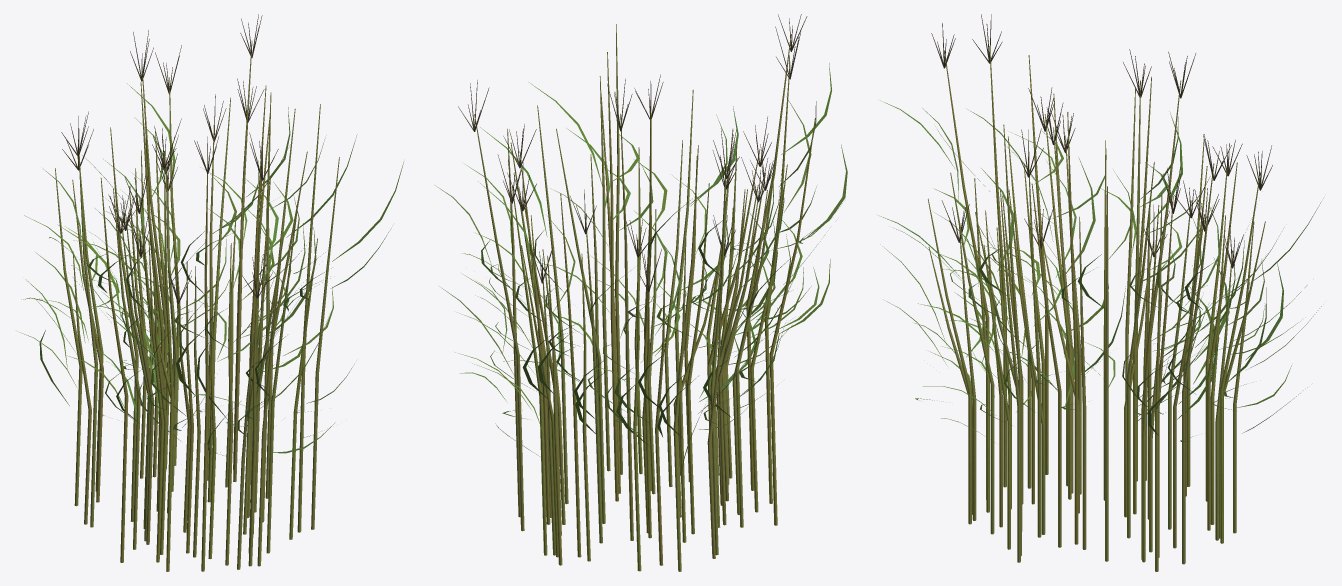
The model's file is PZ_Reeds_Thicket_A.glb.
3 renders of one model, left to right at view 1: azimuth 30°, elevation 25°; view 2: azimuth 150°, elevation 25°; view 3: azimuth 270°, elevation 25°, orthographic. The views are drawn at different scales.
Visible parts, largest first — view 1: Reed_Stems_ClosedTapered, Reed_NarrowLeaves_LowOverdraw, Reed_Plumed_SeedTufts; view 2: Reed_Stems_ClosedTapered, Reed_NarrowLeaves_LowOverdraw, Reed_Plumed_SeedTufts; view 3: Reed_Stems_ClosedTapered, Reed_NarrowLeaves_LowOverdraw, Reed_Plumed_SeedTufts.
Part boxes in pixels (x1=…): Reed_Stems_ClosedTapered: x1=55, y1=41, x2=339, y2=571; Reed_NarrowLeaves_LowOverdraw: x1=19, y1=83, x2=403, y2=456; Reed_Plumed_SeedTufts: x1=61, y1=14, x2=278, y2=303; Reed_Stems_ClosedTapered: x1=474, y1=24, x2=815, y2=571; Reed_NarrowLeaves_LowOverdraw: x1=435, y1=63, x2=847, y2=471; Reed_Plumed_SeedTufts: x1=458, y1=14, x2=807, y2=291; Reed_Stems_ClosedTapered: x1=928, y1=46, x2=1265, y2=571; Reed_NarrowLeaves_LowOverdraw: x1=878, y1=100, x2=1323, y2=441; Reed_Plumed_SeedTufts: x1=931, y1=14, x2=1272, y2=268.
Bounding box in the file's own units: 1.76 × 2.43 × 2.13.
3 materials, 3 textured.
